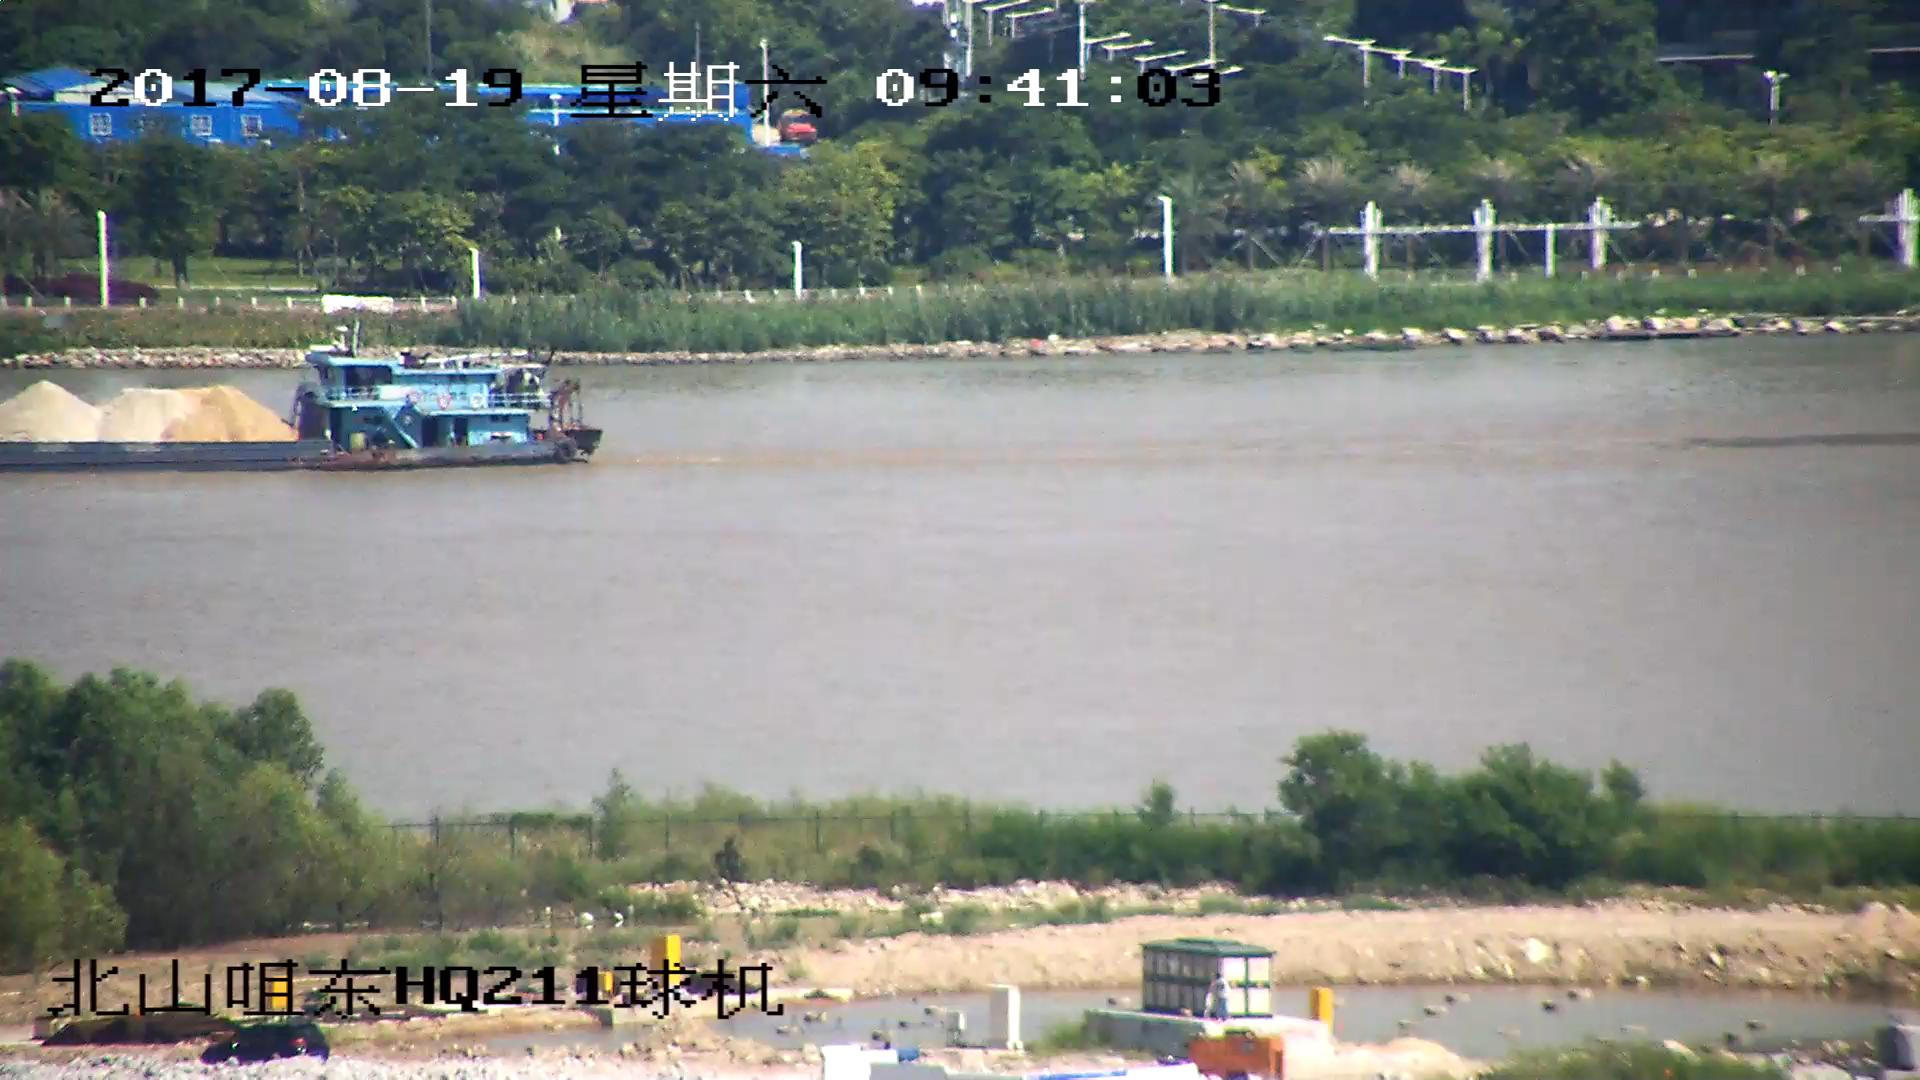ore carrier: (1, 315, 604, 467)
